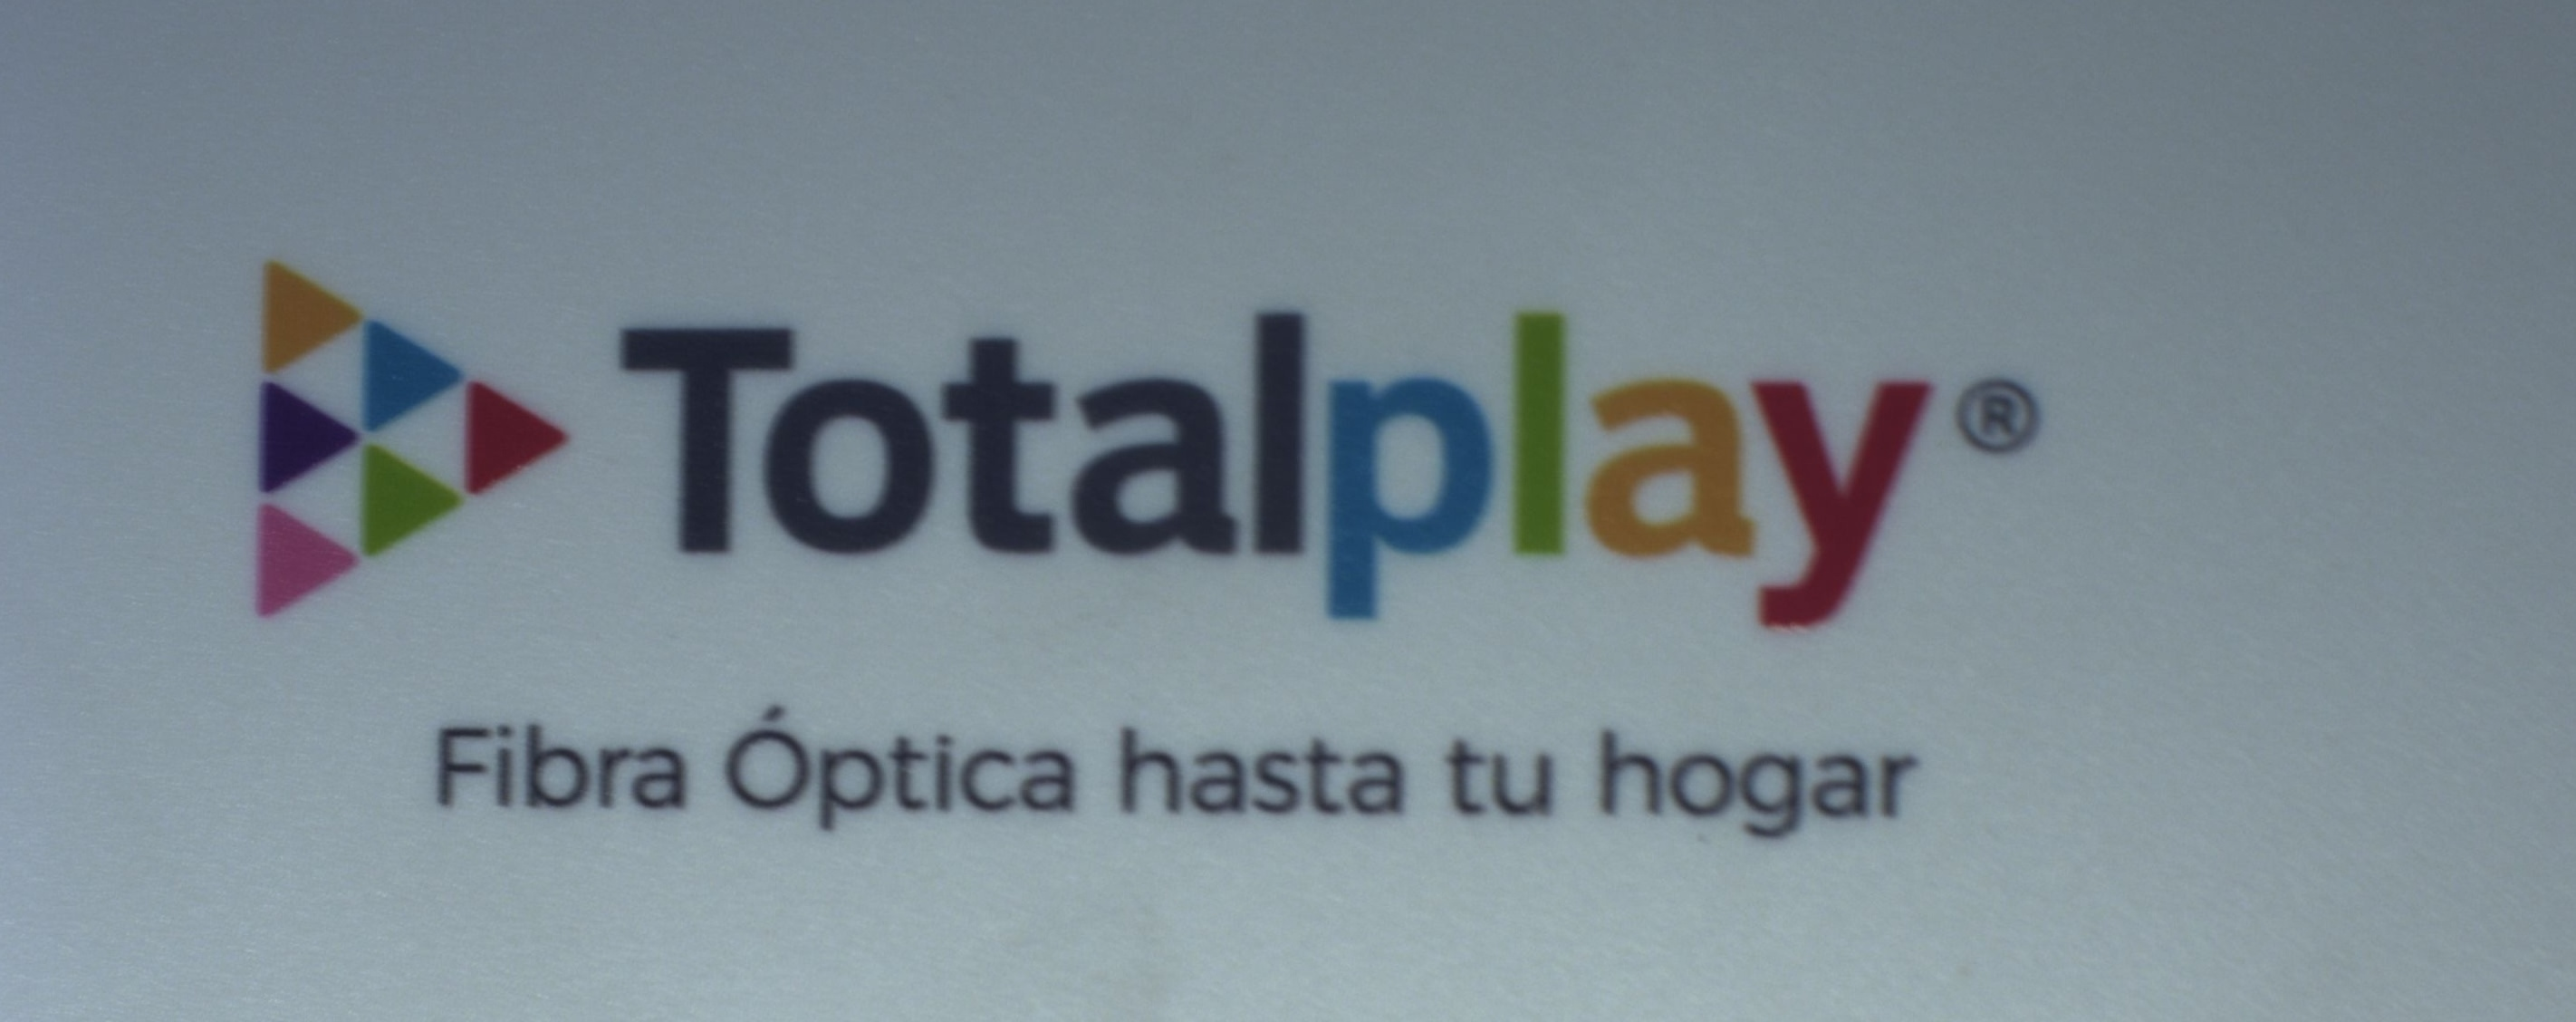BP_TotalPlay: (212, 245, 2045, 845)
